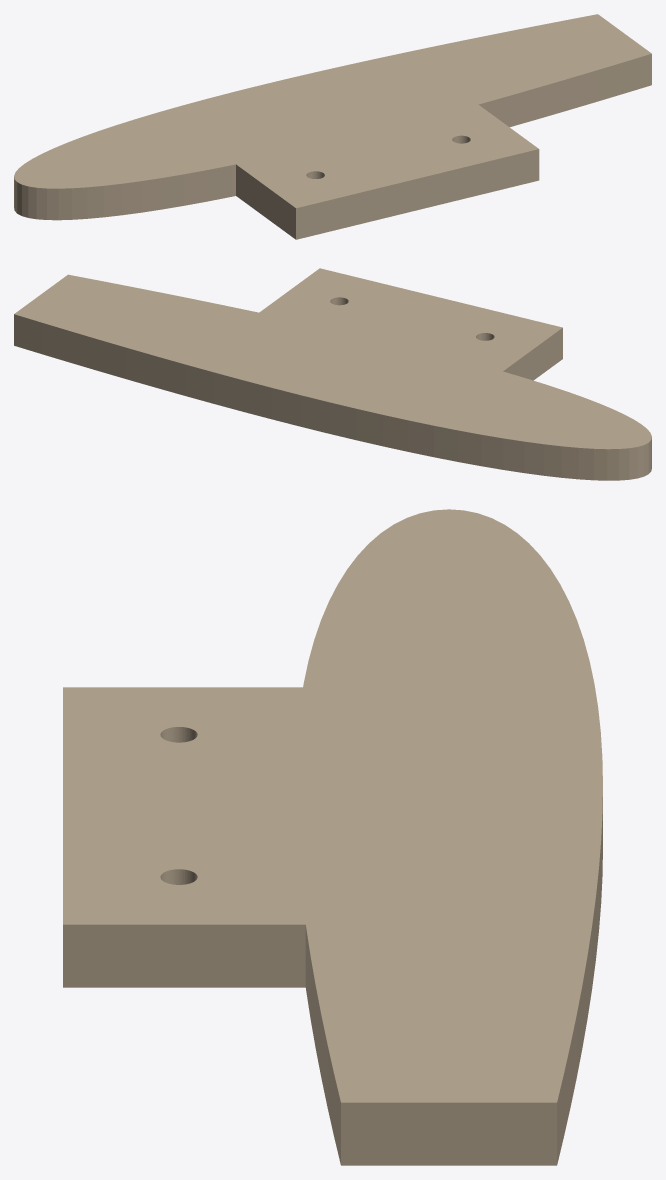
3 renders of one model, top to bottom at view 1: azimuth 30°, elevation 25°; view 2: azimuth 150°, elevation 25°; view 3: azimuth 270°, elevation 25°, orthographic. The views are drawn at different scales.
Parts seen in each view (by area): view 1: geometry_0; view 2: geometry_0; view 3: geometry_0.
Boxes of the visible parts, x1,y1,x2,y2 form: geometry_0: [14, 14, 651, 239]; geometry_0: [14, 268, 651, 480]; geometry_0: [63, 509, 602, 1165].
Size of the model in its own units: 242 by 12 by 93.07.
